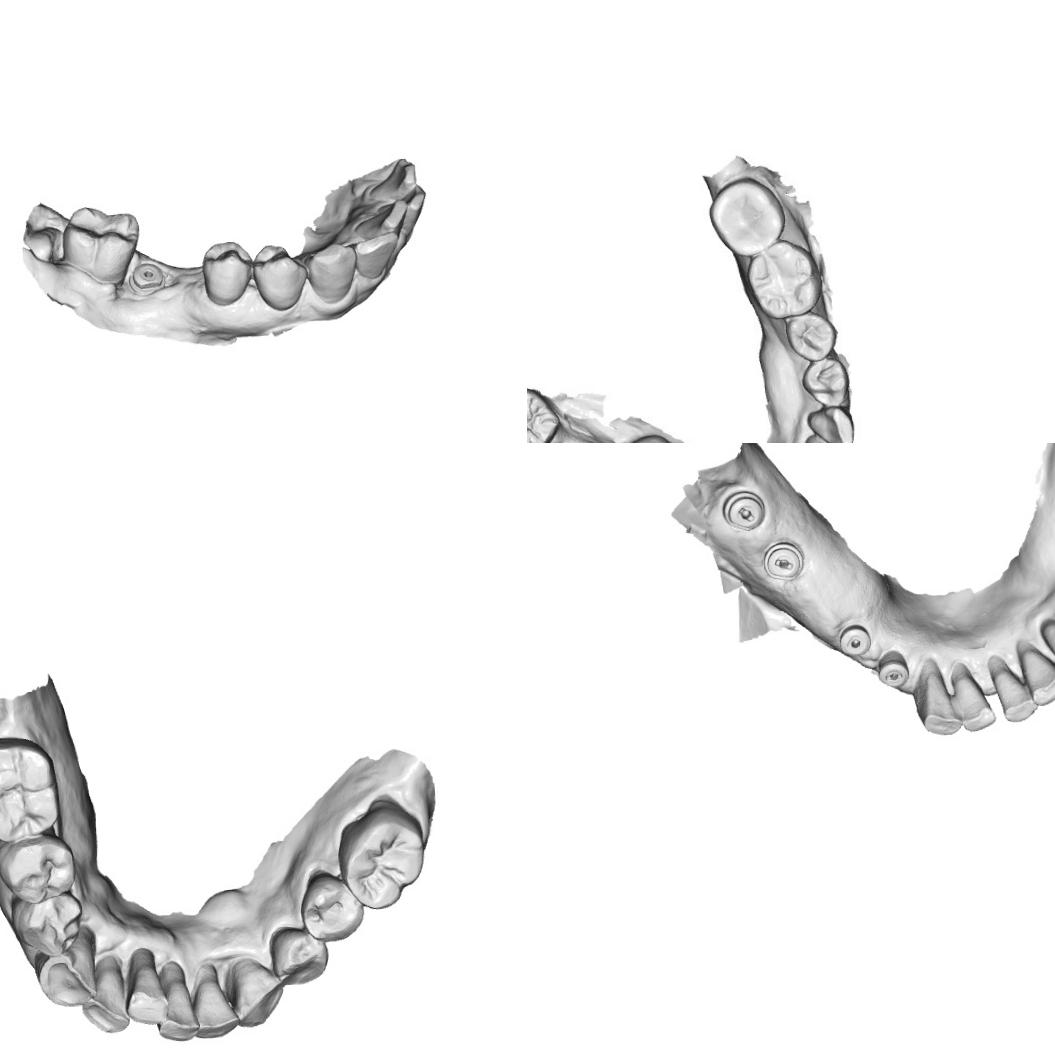canine: (38, 937, 99, 1012), (227, 952, 285, 1030), (306, 241, 358, 306), (808, 406, 856, 443), (1038, 614, 1055, 674)
implant: (835, 620, 874, 658), (128, 261, 168, 295)
implant_minus: (718, 488, 766, 534), (760, 537, 806, 582), (876, 650, 911, 691)
incisor: (82, 965, 133, 1039), (192, 968, 237, 1040), (155, 974, 200, 1043), (916, 670, 960, 738), (950, 671, 996, 733), (126, 955, 166, 1026), (991, 667, 1040, 723), (349, 231, 400, 280), (1016, 645, 1055, 708), (365, 156, 417, 202), (352, 198, 408, 234)
molar: (334, 797, 429, 912), (60, 204, 142, 288), (0, 733, 59, 843), (708, 182, 781, 253), (748, 243, 818, 317), (527, 389, 558, 443)
premolar: (0, 835, 79, 906), (297, 871, 369, 946), (10, 892, 86, 960), (252, 242, 310, 314), (268, 923, 331, 988), (200, 238, 254, 307), (804, 358, 850, 406), (790, 315, 833, 355)
